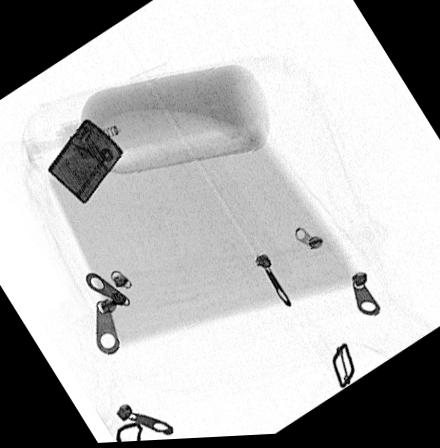Lighter: (46, 119, 124, 206)
